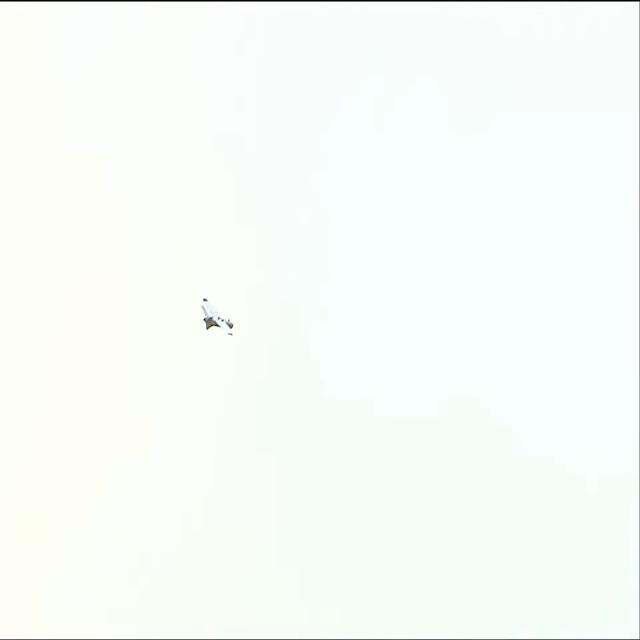iha: (201, 294, 234, 338)
